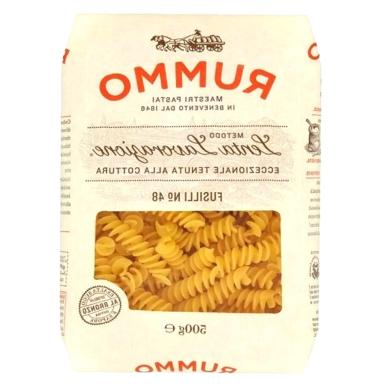pasta package: (61, 15, 321, 372)
